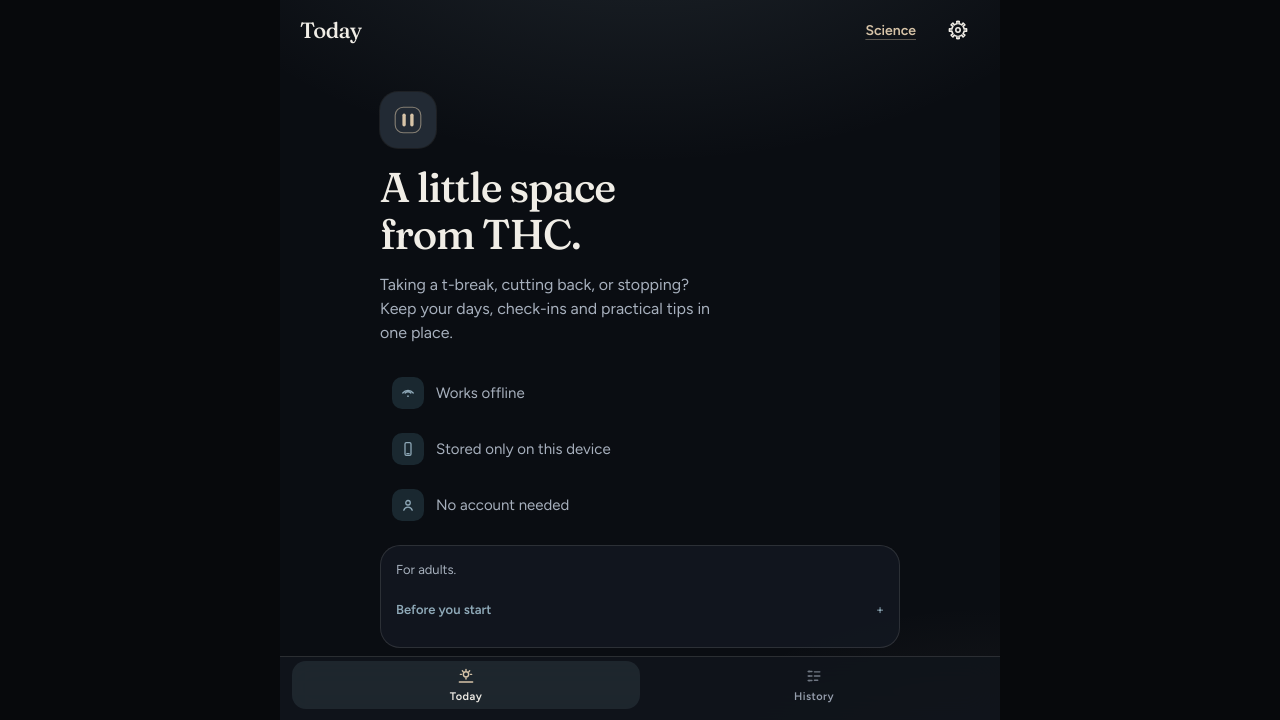
storage failure banner › keeps an unsaved form open when the browser Web Storage fallback refuses a durable save
Click the button "History".
click(814, 685)  # box [640,661,988,709]
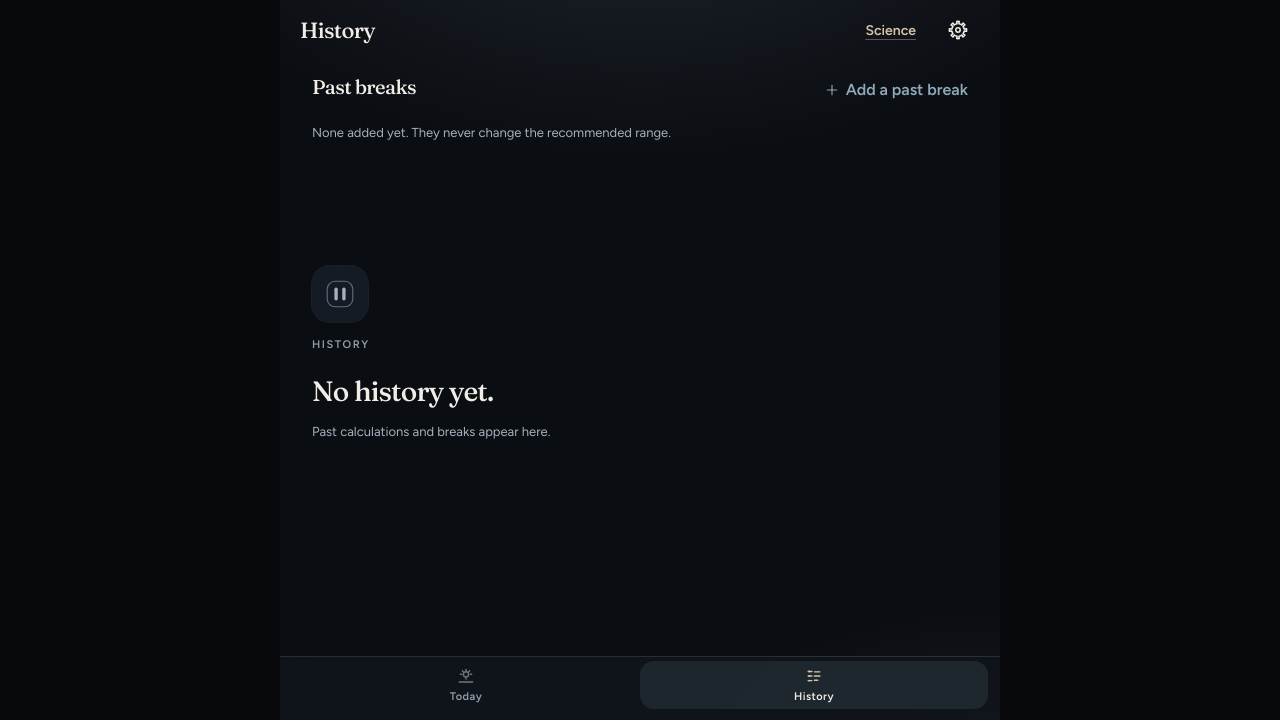
Click the button with test id "history-add-past-break".
click(896, 90)  # box [824,68,968,112]
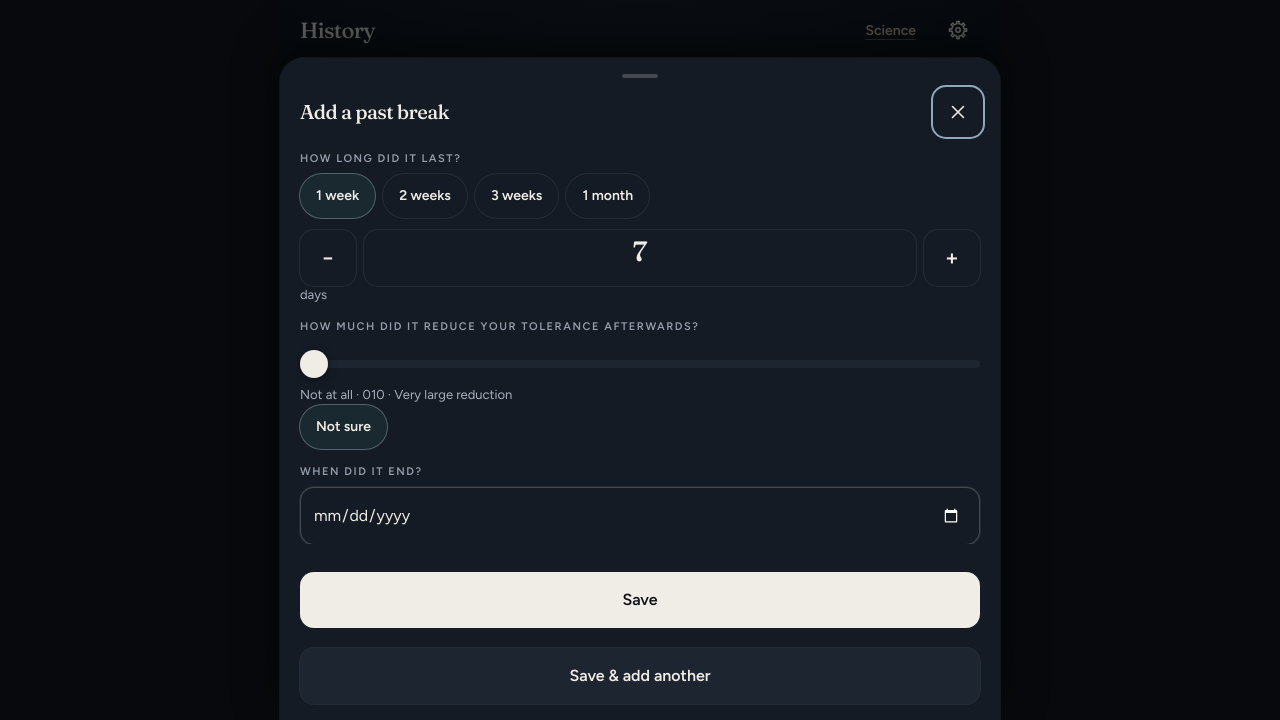
Click the button "2 weeks".
click(425, 196)  # box [383,174,467,218]
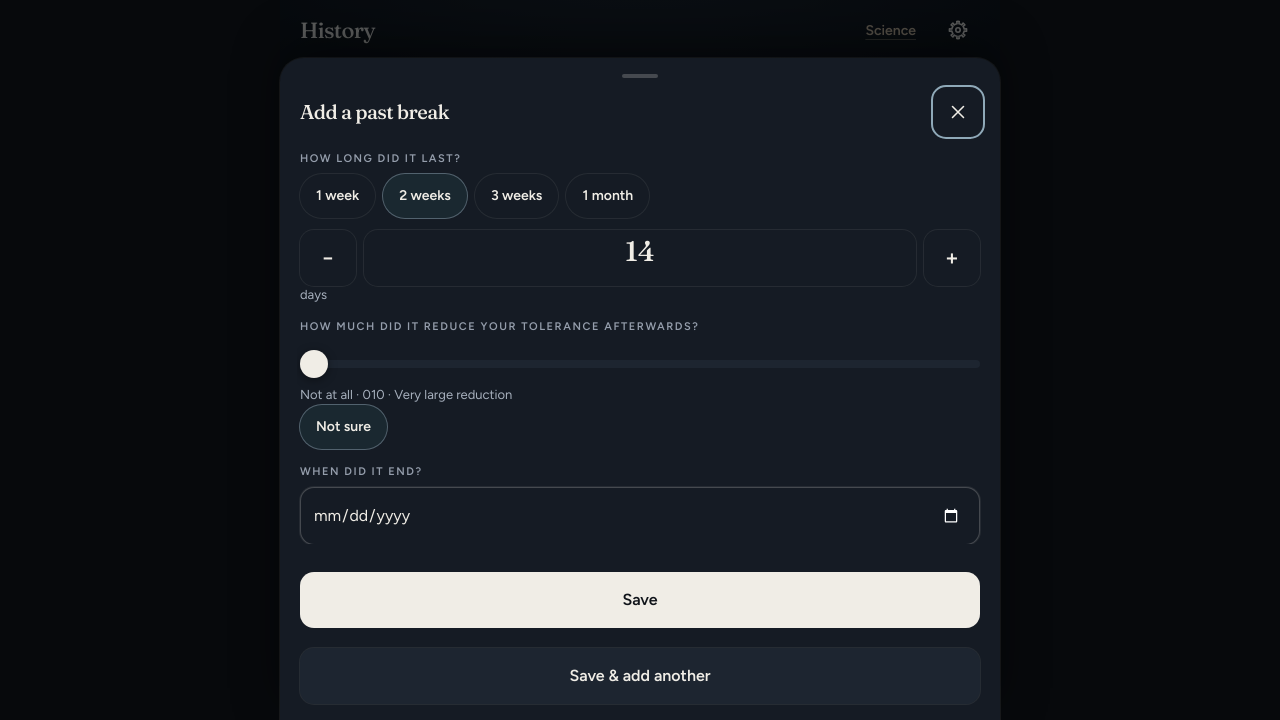
Click the button with test id "previous-break-save".
click(640, 600)  # box [300,572,980,628]
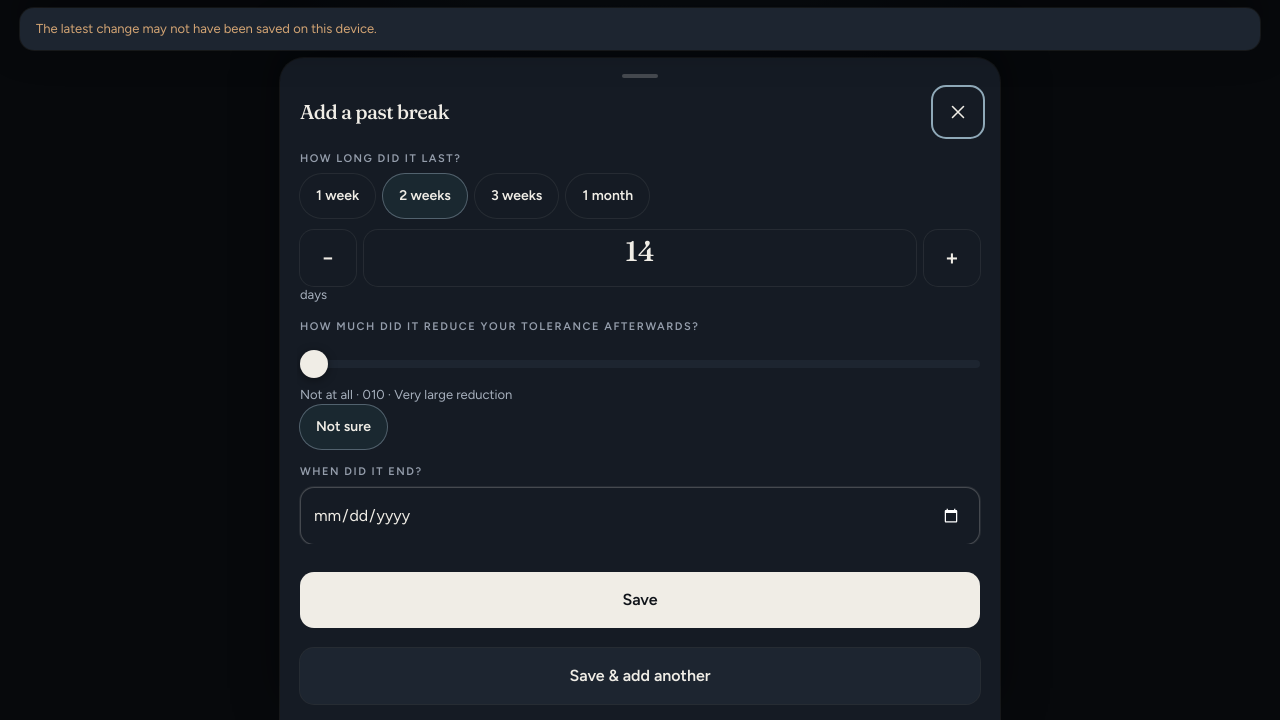
Expected: the element with test id "previous-break-sheet" is shown, [280,0,1000,719]
Click the button with test id "previous-break-save".
click(640, 600)  # box [300,572,980,628]
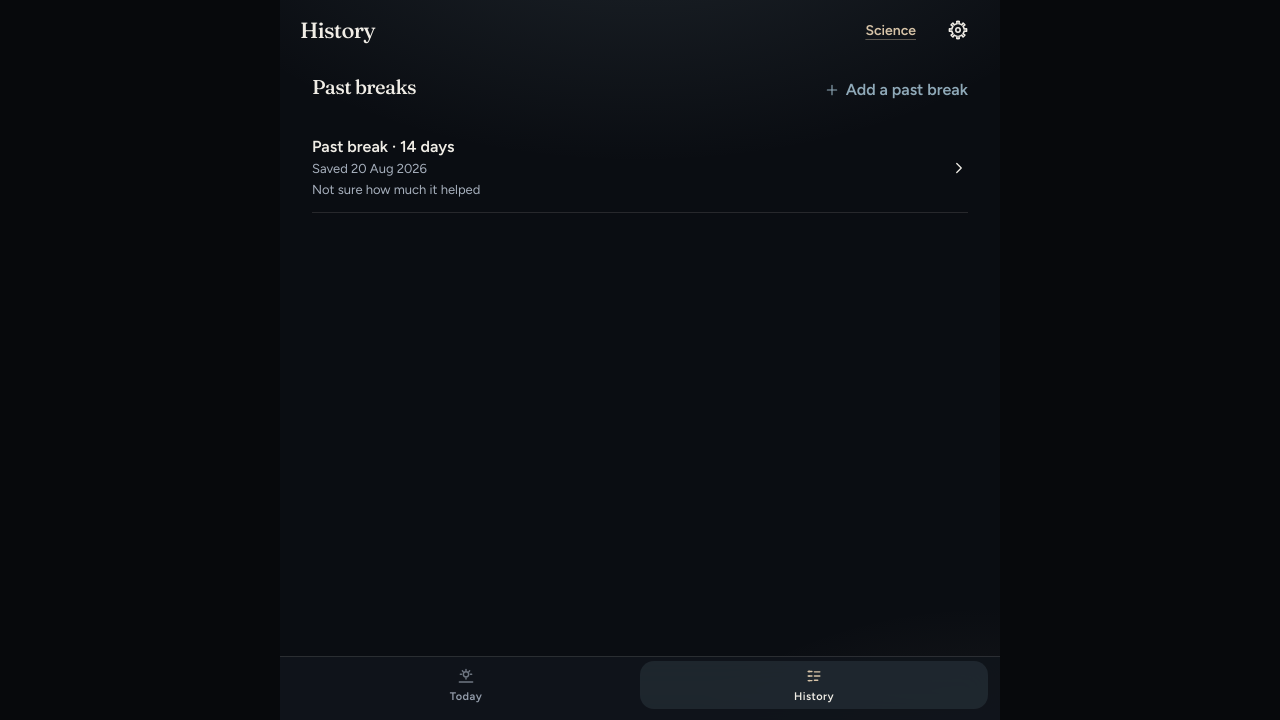
Expected: the element with test id "previous-break-sheet" is gone
